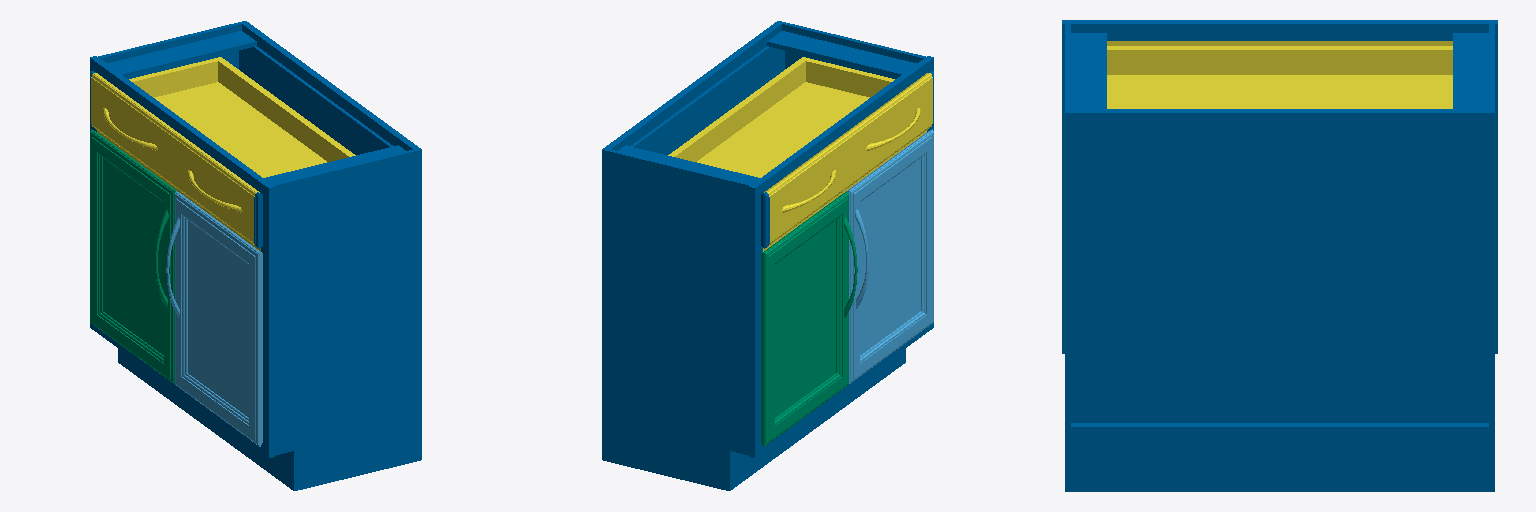
URDF robot description (partnet_3c28e4a1a5154ecc59350d819542ec7):
<?xml version="1.0" ?>
<robot name="partnet_3c28e4a1a5154ecc59350d819542ec7">
	<link name="base"/>
	<link name="link_0">
		<visual name="cabinet_door_surface-29">
			<origin xyz="-0.626315204562269 -0.5602759718894958 -0.3135376695819077"/>
			<geometry>
				<mesh filename="textured_objs/original-68.obj"/>
			</geometry>
		</visual>
		<visual name="cabinet_door_surface-29">
			<origin xyz="-0.626315204562269 -0.5602759718894958 -0.3135376695819077"/>
			<geometry>
				<mesh filename="textured_objs/original-61.obj"/>
			</geometry>
		</visual>
		<visual name="cabinet_door_surface-29">
			<origin xyz="-0.626315204562269 -0.5602759718894958 -0.3135376695819077"/>
			<geometry>
				<mesh filename="textured_objs/original-66.obj"/>
			</geometry>
		</visual>
		<visual name="cabinet_door_surface-29">
			<origin xyz="-0.626315204562269 -0.5602759718894958 -0.3135376695819077"/>
			<geometry>
				<mesh filename="textured_objs/original-71.obj"/>
			</geometry>
		</visual>
		<visual name="cabinet_door_surface-29">
			<origin xyz="-0.626315204562269 -0.5602759718894958 -0.3135376695819077"/>
			<geometry>
				<mesh filename="textured_objs/original-62.obj"/>
			</geometry>
		</visual>
		<visual name="cabinet_door_surface-29">
			<origin xyz="-0.626315204562269 -0.5602759718894958 -0.3135376695819077"/>
			<geometry>
				<mesh filename="textured_objs/original-70.obj"/>
			</geometry>
		</visual>
		<visual name="cabinet_door_surface-29">
			<origin xyz="-0.626315204562269 -0.5602759718894958 -0.3135376695819077"/>
			<geometry>
				<mesh filename="textured_objs/original-65.obj"/>
			</geometry>
		</visual>
		<visual name="cabinet_door_surface-29">
			<origin xyz="-0.626315204562269 -0.5602759718894958 -0.3135376695819077"/>
			<geometry>
				<mesh filename="textured_objs/original-63.obj"/>
			</geometry>
		</visual>
		<visual name="cabinet_door_surface-29">
			<origin xyz="-0.626315204562269 -0.5602759718894958 -0.3135376695819077"/>
			<geometry>
				<mesh filename="textured_objs/original-64.obj"/>
			</geometry>
		</visual>
		<visual name="cabinet_door_surface-29">
			<origin xyz="-0.626315204562269 -0.5602759718894958 -0.3135376695819077"/>
			<geometry>
				<mesh filename="textured_objs/original-69.obj"/>
			</geometry>
		</visual>
		<visual name="handle-30">
			<origin xyz="-0.626315204562269 -0.5602759718894958 -0.3135376695819077"/>
			<geometry>
				<mesh filename="textured_objs/original-72.obj"/>
			</geometry>
		</visual>
		<collision>
			<origin xyz="-0.626315204562269 -0.5602759718894958 -0.3135376695819077"/>
			<geometry>
				<mesh filename="textured_objs/original-68.obj"/>
			</geometry>
		</collision>
		<collision>
			<origin xyz="-0.626315204562269 -0.5602759718894958 -0.3135376695819077"/>
			<geometry>
				<mesh filename="textured_objs/original-61.obj"/>
			</geometry>
		</collision>
		<collision>
			<origin xyz="-0.626315204562269 -0.5602759718894958 -0.3135376695819077"/>
			<geometry>
				<mesh filename="textured_objs/original-66.obj"/>
			</geometry>
		</collision>
		<collision>
			<origin xyz="-0.626315204562269 -0.5602759718894958 -0.3135376695819077"/>
			<geometry>
				<mesh filename="textured_objs/original-71.obj"/>
			</geometry>
		</collision>
		<collision>
			<origin xyz="-0.626315204562269 -0.5602759718894958 -0.3135376695819077"/>
			<geometry>
				<mesh filename="textured_objs/original-62.obj"/>
			</geometry>
		</collision>
		<collision>
			<origin xyz="-0.626315204562269 -0.5602759718894958 -0.3135376695819077"/>
			<geometry>
				<mesh filename="textured_objs/original-70.obj"/>
			</geometry>
		</collision>
		<collision>
			<origin xyz="-0.626315204562269 -0.5602759718894958 -0.3135376695819077"/>
			<geometry>
				<mesh filename="textured_objs/original-65.obj"/>
			</geometry>
		</collision>
		<collision>
			<origin xyz="-0.626315204562269 -0.5602759718894958 -0.3135376695819077"/>
			<geometry>
				<mesh filename="textured_objs/original-63.obj"/>
			</geometry>
		</collision>
		<collision>
			<origin xyz="-0.626315204562269 -0.5602759718894958 -0.3135376695819077"/>
			<geometry>
				<mesh filename="textured_objs/original-64.obj"/>
			</geometry>
		</collision>
		<collision>
			<origin xyz="-0.626315204562269 -0.5602759718894958 -0.3135376695819077"/>
			<geometry>
				<mesh filename="textured_objs/original-69.obj"/>
			</geometry>
		</collision>
		<collision>
			<origin xyz="-0.626315204562269 -0.5602759718894958 -0.3135376695819077"/>
			<geometry>
				<mesh filename="textured_objs/original-72.obj"/>
			</geometry>
		</collision>
	</link>
	<joint name="joint_0" type="revolute">
		<origin xyz="0.626315204562269 0.5602759718894958 0.3135376695819077"/>
		<axis xyz="0 0.9999999999999999 0"/>
		<child link="link_0"/>
		<parent link="link_3"/>
		<limit lower="0.0" upper="1.5707963267948966"/>
	</joint>
	<link name="link_1">
		<visual name="cabinet_door_surface-31">
			<origin xyz="0.642912366266126 -0.5602759718894958 -0.31403738439374973"/>
			<geometry>
				<mesh filename="textured_objs/original-56.obj"/>
			</geometry>
		</visual>
		<visual name="cabinet_door_surface-31">
			<origin xyz="0.642912366266126 -0.5602759718894958 -0.31403738439374973"/>
			<geometry>
				<mesh filename="textured_objs/original-58.obj"/>
			</geometry>
		</visual>
		<visual name="cabinet_door_surface-31">
			<origin xyz="0.642912366266126 -0.5602759718894958 -0.31403738439374973"/>
			<geometry>
				<mesh filename="textured_objs/original-52.obj"/>
			</geometry>
		</visual>
		<visual name="cabinet_door_surface-31">
			<origin xyz="0.642912366266126 -0.5602759718894958 -0.31403738439374973"/>
			<geometry>
				<mesh filename="textured_objs/original-48.obj"/>
			</geometry>
		</visual>
		<visual name="cabinet_door_surface-31">
			<origin xyz="0.642912366266126 -0.5602759718894958 -0.31403738439374973"/>
			<geometry>
				<mesh filename="textured_objs/original-57.obj"/>
			</geometry>
		</visual>
		<visual name="cabinet_door_surface-31">
			<origin xyz="0.642912366266126 -0.5602759718894958 -0.31403738439374973"/>
			<geometry>
				<mesh filename="textured_objs/original-53.obj"/>
			</geometry>
		</visual>
		<visual name="cabinet_door_surface-31">
			<origin xyz="0.642912366266126 -0.5602759718894958 -0.31403738439374973"/>
			<geometry>
				<mesh filename="textured_objs/original-50.obj"/>
			</geometry>
		</visual>
		<visual name="cabinet_door_surface-31">
			<origin xyz="0.642912366266126 -0.5602759718894958 -0.31403738439374973"/>
			<geometry>
				<mesh filename="textured_objs/original-51.obj"/>
			</geometry>
		</visual>
		<visual name="cabinet_door_surface-31">
			<origin xyz="0.642912366266126 -0.5602759718894958 -0.31403738439374973"/>
			<geometry>
				<mesh filename="textured_objs/original-49.obj"/>
			</geometry>
		</visual>
		<visual name="cabinet_door_surface-31">
			<origin xyz="0.642912366266126 -0.5602759718894958 -0.31403738439374973"/>
			<geometry>
				<mesh filename="textured_objs/original-55.obj"/>
			</geometry>
		</visual>
		<visual name="handle-32">
			<origin xyz="0.642912366266126 -0.5602759718894958 -0.31403738439374973"/>
			<geometry>
				<mesh filename="textured_objs/original-59.obj"/>
			</geometry>
		</visual>
		<collision>
			<origin xyz="0.642912366266126 -0.5602759718894958 -0.31403738439374973"/>
			<geometry>
				<mesh filename="textured_objs/original-56.obj"/>
			</geometry>
		</collision>
		<collision>
			<origin xyz="0.642912366266126 -0.5602759718894958 -0.31403738439374973"/>
			<geometry>
				<mesh filename="textured_objs/original-58.obj"/>
			</geometry>
		</collision>
		<collision>
			<origin xyz="0.642912366266126 -0.5602759718894958 -0.31403738439374973"/>
			<geometry>
				<mesh filename="textured_objs/original-52.obj"/>
			</geometry>
		</collision>
		<collision>
			<origin xyz="0.642912366266126 -0.5602759718894958 -0.31403738439374973"/>
			<geometry>
				<mesh filename="textured_objs/original-48.obj"/>
			</geometry>
		</collision>
		<collision>
			<origin xyz="0.642912366266126 -0.5602759718894958 -0.31403738439374973"/>
			<geometry>
				<mesh filename="textured_objs/original-57.obj"/>
			</geometry>
		</collision>
		<collision>
			<origin xyz="0.642912366266126 -0.5602759718894958 -0.31403738439374973"/>
			<geometry>
				<mesh filename="textured_objs/original-53.obj"/>
			</geometry>
		</collision>
		<collision>
			<origin xyz="0.642912366266126 -0.5602759718894958 -0.31403738439374973"/>
			<geometry>
				<mesh filename="textured_objs/original-50.obj"/>
			</geometry>
		</collision>
		<collision>
			<origin xyz="0.642912366266126 -0.5602759718894958 -0.31403738439374973"/>
			<geometry>
				<mesh filename="textured_objs/original-51.obj"/>
			</geometry>
		</collision>
		<collision>
			<origin xyz="0.642912366266126 -0.5602759718894958 -0.31403738439374973"/>
			<geometry>
				<mesh filename="textured_objs/original-49.obj"/>
			</geometry>
		</collision>
		<collision>
			<origin xyz="0.642912366266126 -0.5602759718894958 -0.31403738439374973"/>
			<geometry>
				<mesh filename="textured_objs/original-55.obj"/>
			</geometry>
		</collision>
		<collision>
			<origin xyz="0.642912366266126 -0.5602759718894958 -0.31403738439374973"/>
			<geometry>
				<mesh filename="textured_objs/original-59.obj"/>
			</geometry>
		</collision>
	</link>
	<joint name="joint_1" type="revolute">
		<origin xyz="-0.642912366266126 0.5602759718894958 0.31403738439374973"/>
		<axis xyz="0 -1 0"/>
		<child link="link_1"/>
		<parent link="link_3"/>
		<limit lower="-0.0" upper="1.5707963267948966"/>
	</joint>
	<link name="link_2">
		<visual name="drawer_front-22">
			<origin xyz="0 0 0"/>
			<geometry>
				<mesh filename="textured_objs/original-41.obj"/>
			</geometry>
		</visual>
		<visual name="drawer_front-22">
			<origin xyz="0 0 0"/>
			<geometry>
				<mesh filename="textured_objs/original-18.obj"/>
			</geometry>
		</visual>
		<visual name="drawer_front-22">
			<origin xyz="0 0 0"/>
			<geometry>
				<mesh filename="textured_objs/original-42.obj"/>
			</geometry>
		</visual>
		<visual name="drawer_front-22">
			<origin xyz="0 0 0"/>
			<geometry>
				<mesh filename="textured_objs/original-40.obj"/>
			</geometry>
		</visual>
		<visual name="drawer_front-22">
			<origin xyz="0 0 0"/>
			<geometry>
				<mesh filename="textured_objs/original-39.obj"/>
			</geometry>
		</visual>
		<visual name="drawer_front-22">
			<origin xyz="0 0 0"/>
			<geometry>
				<mesh filename="textured_objs/original-26.obj"/>
			</geometry>
		</visual>
		<visual name="drawer_side-23">
			<origin xyz="0 0 0"/>
			<geometry>
				<mesh filename="textured_objs/original-25.obj"/>
			</geometry>
		</visual>
		<visual name="drawer_side-24">
			<origin xyz="0 0 0"/>
			<geometry>
				<mesh filename="textured_objs/original-32.obj"/>
			</geometry>
		</visual>
		<visual name="drawer_side-24">
			<origin xyz="0 0 0"/>
			<geometry>
				<mesh filename="textured_objs/original-30.obj"/>
			</geometry>
		</visual>
		<visual name="drawer_back-25">
			<origin xyz="0 0 0"/>
			<geometry>
				<mesh filename="textured_objs/original-31.obj"/>
			</geometry>
		</visual>
		<visual name="drawer_bottom-26">
			<origin xyz="0 0 0"/>
			<geometry>
				<mesh filename="textured_objs/original-29.obj"/>
			</geometry>
		</visual>
		<visual name="drawer_bottom-26">
			<origin xyz="0 0 0"/>
			<geometry>
				<mesh filename="textured_objs/original-28.obj"/>
			</geometry>
		</visual>
		<visual name="handle-7">
			<origin xyz="0 0 0"/>
			<geometry>
				<mesh filename="textured_objs/original-46.obj"/>
			</geometry>
		</visual>
		<visual name="handle-8">
			<origin xyz="0 0 0"/>
			<geometry>
				<mesh filename="textured_objs/original-45.obj"/>
			</geometry>
		</visual>
		<collision>
			<origin xyz="0 0 0"/>
			<geometry>
				<mesh filename="textured_objs/original-41.obj"/>
			</geometry>
		</collision>
		<collision>
			<origin xyz="0 0 0"/>
			<geometry>
				<mesh filename="textured_objs/original-18.obj"/>
			</geometry>
		</collision>
		<collision>
			<origin xyz="0 0 0"/>
			<geometry>
				<mesh filename="textured_objs/original-42.obj"/>
			</geometry>
		</collision>
		<collision>
			<origin xyz="0 0 0"/>
			<geometry>
				<mesh filename="textured_objs/original-40.obj"/>
			</geometry>
		</collision>
		<collision>
			<origin xyz="0 0 0"/>
			<geometry>
				<mesh filename="textured_objs/original-39.obj"/>
			</geometry>
		</collision>
		<collision>
			<origin xyz="0 0 0"/>
			<geometry>
				<mesh filename="textured_objs/original-26.obj"/>
			</geometry>
		</collision>
		<collision>
			<origin xyz="0 0 0"/>
			<geometry>
				<mesh filename="textured_objs/original-25.obj"/>
			</geometry>
		</collision>
		<collision>
			<origin xyz="0 0 0"/>
			<geometry>
				<mesh filename="textured_objs/original-32.obj"/>
			</geometry>
		</collision>
		<collision>
			<origin xyz="0 0 0"/>
			<geometry>
				<mesh filename="textured_objs/original-30.obj"/>
			</geometry>
		</collision>
		<collision>
			<origin xyz="0 0 0"/>
			<geometry>
				<mesh filename="textured_objs/original-31.obj"/>
			</geometry>
		</collision>
		<collision>
			<origin xyz="0 0 0"/>
			<geometry>
				<mesh filename="textured_objs/original-29.obj"/>
			</geometry>
		</collision>
		<collision>
			<origin xyz="0 0 0"/>
			<geometry>
				<mesh filename="textured_objs/original-28.obj"/>
			</geometry>
		</collision>
		<collision>
			<origin xyz="0 0 0"/>
			<geometry>
				<mesh filename="textured_objs/original-46.obj"/>
			</geometry>
		</collision>
		<collision>
			<origin xyz="0 0 0"/>
			<geometry>
				<mesh filename="textured_objs/original-45.obj"/>
			</geometry>
		</collision>
	</link>
	<joint name="joint_2" type="prismatic">
		<origin xyz="0 0 0"/>
		<axis xyz="0 0 1"/>
		<child link="link_2"/>
		<parent link="link_3"/>
		<limit lower="0" upper="0.45"/>
	</joint>
	<link name="link_3">
		<visual name="shelf-52">
			<origin xyz="0 0 0"/>
			<geometry>
				<mesh filename="textured_objs/original-2.obj"/>
			</geometry>
		</visual>
		<visual name="back_panel-35">
			<origin xyz="0 0 0"/>
			<geometry>
				<mesh filename="textured_objs/original-6.obj"/>
			</geometry>
		</visual>
		<visual name="top_panel-37">
			<origin xyz="0 0 0"/>
			<geometry>
				<mesh filename="textured_objs/original-3.obj"/>
			</geometry>
		</visual>
		<visual name="frame_horizontal_bar-40">
			<origin xyz="0 0 0"/>
			<geometry>
				<mesh filename="textured_objs/original-21.obj"/>
			</geometry>
		</visual>
		<visual name="frame_horizontal_bar-41">
			<origin xyz="0 0 0"/>
			<geometry>
				<mesh filename="textured_objs/original-5.obj"/>
			</geometry>
		</visual>
		<visual name="frame_horizontal_bar-42">
			<origin xyz="0 0 0"/>
			<geometry>
				<mesh filename="textured_objs/original-22.obj"/>
			</geometry>
		</visual>
		<visual name="frame_horizontal_bar-43">
			<origin xyz="0 0 0"/>
			<geometry>
				<mesh filename="textured_objs/original-7.obj"/>
			</geometry>
		</visual>
		<visual name="vertical_side_panel-44">
			<origin xyz="0 0 0"/>
			<geometry>
				<mesh filename="textured_objs/original-12.obj"/>
			</geometry>
		</visual>
		<visual name="vertical_side_panel-44">
			<origin xyz="0 0 0"/>
			<geometry>
				<mesh filename="textured_objs/original-11.obj"/>
			</geometry>
		</visual>
		<visual name="vertical_side_panel-45">
			<origin xyz="0 0 0"/>
			<geometry>
				<mesh filename="textured_objs/original-16.obj"/>
			</geometry>
		</visual>
		<visual name="vertical_side_panel-45">
			<origin xyz="0 0 0"/>
			<geometry>
				<mesh filename="textured_objs/original-15.obj"/>
			</geometry>
		</visual>
		<visual name="frame_vertical_bar-47">
			<origin xyz="0 0 0"/>
			<geometry>
				<mesh filename="textured_objs/original-44.obj"/>
			</geometry>
		</visual>
		<visual name="frame_vertical_bar-47">
			<origin xyz="0 0 0"/>
			<geometry>
				<mesh filename="textured_objs/original-36.obj"/>
			</geometry>
		</visual>
		<visual name="frame_vertical_bar-47">
			<origin xyz="0 0 0"/>
			<geometry>
				<mesh filename="textured_objs/original-37.obj"/>
			</geometry>
		</visual>
		<visual name="frame_vertical_bar-48">
			<origin xyz="0 0 0"/>
			<geometry>
				<mesh filename="textured_objs/original-34.obj"/>
			</geometry>
		</visual>
		<visual name="frame_vertical_bar-48">
			<origin xyz="0 0 0"/>
			<geometry>
				<mesh filename="textured_objs/original-35.obj"/>
			</geometry>
		</visual>
		<visual name="frame_vertical_bar-48">
			<origin xyz="0 0 0"/>
			<geometry>
				<mesh filename="textured_objs/original-43.obj"/>
			</geometry>
		</visual>
		<visual name="frame_horizontal_bar-55">
			<origin xyz="0 0 0"/>
			<geometry>
				<mesh filename="textured_objs/original-9.obj"/>
			</geometry>
		</visual>
		<visual name="other_leaf-90">
			<origin xyz="0 0 0"/>
			<geometry>
				<mesh filename="textured_objs/original-73.obj"/>
			</geometry>
		</visual>
		<visual name="frame_vertical_bar-91">
			<origin xyz="0 0 0"/>
			<geometry>
				<mesh filename="textured_objs/original-4.obj"/>
			</geometry>
		</visual>
		<visual name="frame_vertical_bar-92">
			<origin xyz="0 0 0"/>
			<geometry>
				<mesh filename="textured_objs/original-8.obj"/>
			</geometry>
		</visual>
		<visual name="base_side_panel-85">
			<origin xyz="0 0 0"/>
			<geometry>
				<mesh filename="textured_objs/original-13.obj"/>
			</geometry>
		</visual>
		<visual name="base_side_panel-86">
			<origin xyz="0 0 0"/>
			<geometry>
				<mesh filename="textured_objs/original-20.obj"/>
			</geometry>
		</visual>
		<visual name="base_side_panel-87">
			<origin xyz="0 0 0"/>
			<geometry>
				<mesh filename="textured_objs/original-17.obj"/>
			</geometry>
		</visual>
		<visual name="base_side_panel-88">
			<origin xyz="0 0 0"/>
			<geometry>
				<mesh filename="textured_objs/original-19.obj"/>
			</geometry>
		</visual>
		<collision>
			<origin xyz="0 0 0"/>
			<geometry>
				<mesh filename="textured_objs/original-2.obj"/>
			</geometry>
		</collision>
		<collision>
			<origin xyz="0 0 0"/>
			<geometry>
				<mesh filename="textured_objs/original-6.obj"/>
			</geometry>
		</collision>
		<collision>
			<origin xyz="0 0 0"/>
			<geometry>
				<mesh filename="textured_objs/original-3.obj"/>
			</geometry>
		</collision>
		<collision>
			<origin xyz="0 0 0"/>
			<geometry>
				<mesh filename="textured_objs/original-21.obj"/>
			</geometry>
		</collision>
		<collision>
			<origin xyz="0 0 0"/>
			<geometry>
				<mesh filename="textured_objs/original-5.obj"/>
			</geometry>
		</collision>
		<collision>
			<origin xyz="0 0 0"/>
			<geometry>
				<mesh filename="textured_objs/original-22.obj"/>
			</geometry>
		</collision>
		<collision>
			<origin xyz="0 0 0"/>
			<geometry>
				<mesh filename="textured_objs/original-7.obj"/>
			</geometry>
		</collision>
		<collision>
			<origin xyz="0 0 0"/>
			<geometry>
				<mesh filename="textured_objs/original-12.obj"/>
			</geometry>
		</collision>
		<collision>
			<origin xyz="0 0 0"/>
			<geometry>
				<mesh filename="textured_objs/original-11.obj"/>
			</geometry>
		</collision>
		<collision>
			<origin xyz="0 0 0"/>
			<geometry>
				<mesh filename="textured_objs/original-16.obj"/>
			</geometry>
		</collision>
		<collision>
			<origin xyz="0 0 0"/>
			<geometry>
				<mesh filename="textured_objs/original-15.obj"/>
			</geometry>
		</collision>
		<collision>
			<origin xyz="0 0 0"/>
			<geometry>
				<mesh filename="textured_objs/original-44.obj"/>
			</geometry>
		</collision>
		<collision>
			<origin xyz="0 0 0"/>
			<geometry>
				<mesh filename="textured_objs/original-36.obj"/>
			</geometry>
		</collision>
		<collision>
			<origin xyz="0 0 0"/>
			<geometry>
				<mesh filename="textured_objs/original-37.obj"/>
			</geometry>
		</collision>
		<collision>
			<origin xyz="0 0 0"/>
			<geometry>
				<mesh filename="textured_objs/original-34.obj"/>
			</geometry>
		</collision>
		<collision>
			<origin xyz="0 0 0"/>
			<geometry>
				<mesh filename="textured_objs/original-35.obj"/>
			</geometry>
		</collision>
		<collision>
			<origin xyz="0 0 0"/>
			<geometry>
				<mesh filename="textured_objs/original-43.obj"/>
			</geometry>
		</collision>
		<collision>
			<origin xyz="0 0 0"/>
			<geometry>
				<mesh filename="textured_objs/original-9.obj"/>
			</geometry>
		</collision>
		<collision>
			<origin xyz="0 0 0"/>
			<geometry>
				<mesh filename="textured_objs/original-73.obj"/>
			</geometry>
		</collision>
		<collision>
			<origin xyz="0 0 0"/>
			<geometry>
				<mesh filename="textured_objs/original-4.obj"/>
			</geometry>
		</collision>
		<collision>
			<origin xyz="0 0 0"/>
			<geometry>
				<mesh filename="textured_objs/original-8.obj"/>
			</geometry>
		</collision>
		<collision>
			<origin xyz="0 0 0"/>
			<geometry>
				<mesh filename="textured_objs/original-13.obj"/>
			</geometry>
		</collision>
		<collision>
			<origin xyz="0 0 0"/>
			<geometry>
				<mesh filename="textured_objs/original-20.obj"/>
			</geometry>
		</collision>
		<collision>
			<origin xyz="0 0 0"/>
			<geometry>
				<mesh filename="textured_objs/original-17.obj"/>
			</geometry>
		</collision>
		<collision>
			<origin xyz="0 0 0"/>
			<geometry>
				<mesh filename="textured_objs/original-19.obj"/>
			</geometry>
		</collision>
	</link>
	<joint name="joint_3" type="fixed">
		<origin rpy="1.570796326794897 0 -1.570796326794897" xyz="0 0 0"/>
		<child link="link_3"/>
		<parent link="base"/>
	</joint>
</robot>

--- Facts derived from the render (not from the file) ---
The picture shows the robot from 3 angles, left to right: view 1: azimuth 30°, elevation 25°; view 2: azimuth 150°, elevation 25°; view 3: azimuth 270°, elevation 25°; orthographic projection.
Model partnet_3c28e4a1a5154ecc59350d819542ec7 with 5 links and 4 joints (2 revolute, 1 prismatic, 1 fixed), rooted at base, posed every joint at zero.
Links seen in each view (by area): view 1: link_3, link_2, link_0, link_1; view 2: link_3, link_2, link_1, link_0; view 3: link_3, link_2.
Boxes of the visible links, x1=… form: link_3: x1=90, y1=21, x2=421, y2=490; link_2: x1=91, y1=57, x2=355, y2=251; link_0: x1=166, y1=191, x2=262, y2=446; link_1: x1=90, y1=129, x2=177, y2=383; link_3: x1=602, y1=21, x2=933, y2=490; link_2: x1=668, y1=57, x2=932, y2=251; link_1: x1=761, y1=191, x2=857, y2=446; link_0: x1=846, y1=129, x2=933, y2=383; link_3: x1=1062, y1=20, x2=1497, y2=491; link_2: x1=1107, y1=41, x2=1452, y2=108.
Size in the robot's own frame: 0.7581 by 1.36 by 1.3 metres.
61 mesh visuals loaded from 61 distinct referenced files (61 OBJ).